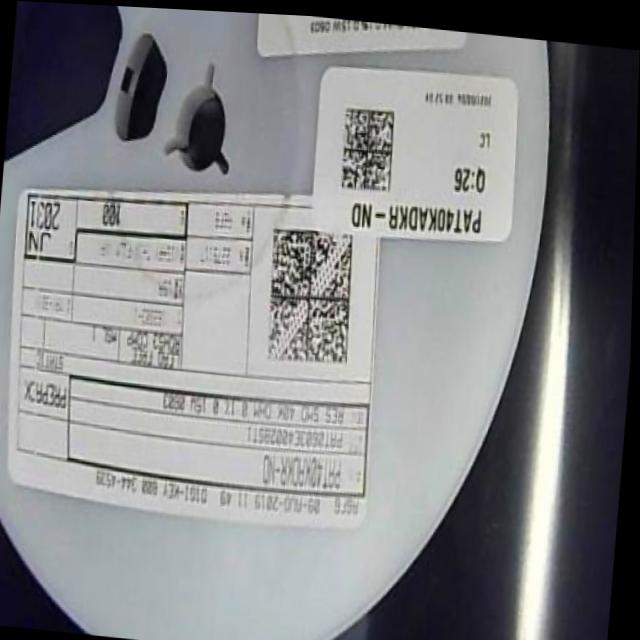datamatrix: (263, 220, 361, 367), (336, 102, 398, 192)
